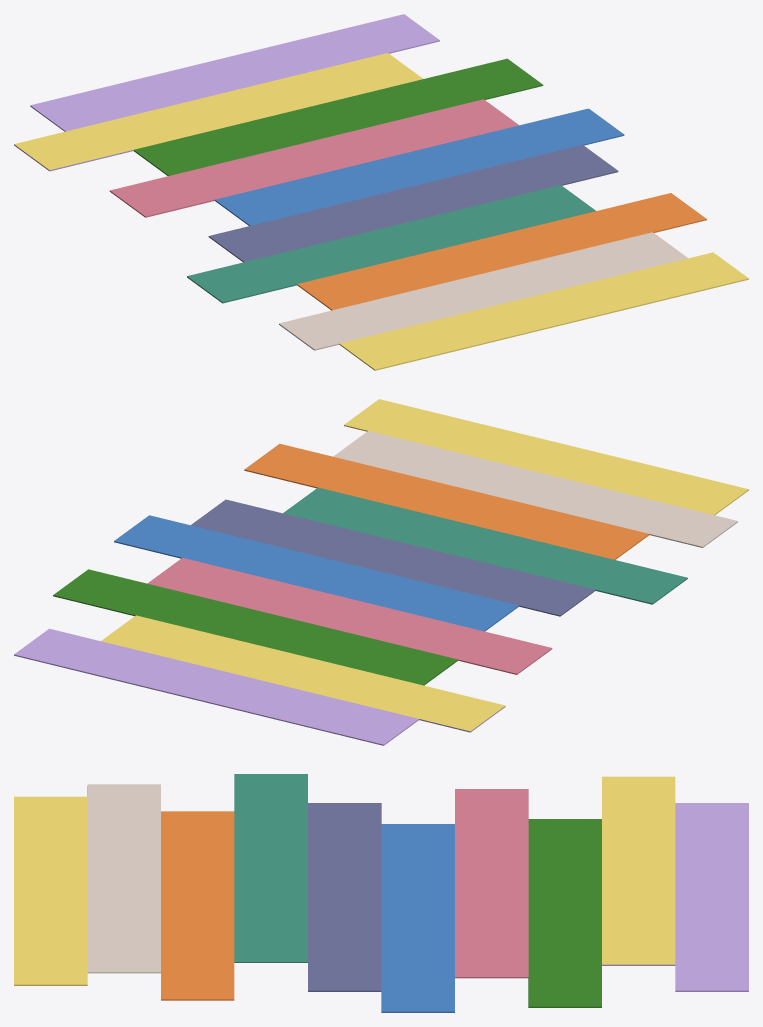
File: Carpet_4.fbx
3 views of the same model, one above another, from view 1: azimuth 30°, elevation 25°; view 2: azimuth 150°, elevation 25°; view 3: azimuth 270°, elevation 25° (orthographic). The views are drawn at different scales.
Parts seen in each view (by area): view 1: Carpet_4; view 2: Carpet_4; view 3: Carpet_4.
Part boxes in pixels (bbox=[...]): Carpet_4: bbox=[14, 14, 748, 370]; Carpet_4: bbox=[14, 399, 748, 745]; Carpet_4: bbox=[14, 774, 748, 1012].
Size of the model in its own units: 277 by 362 by 0.6933.
